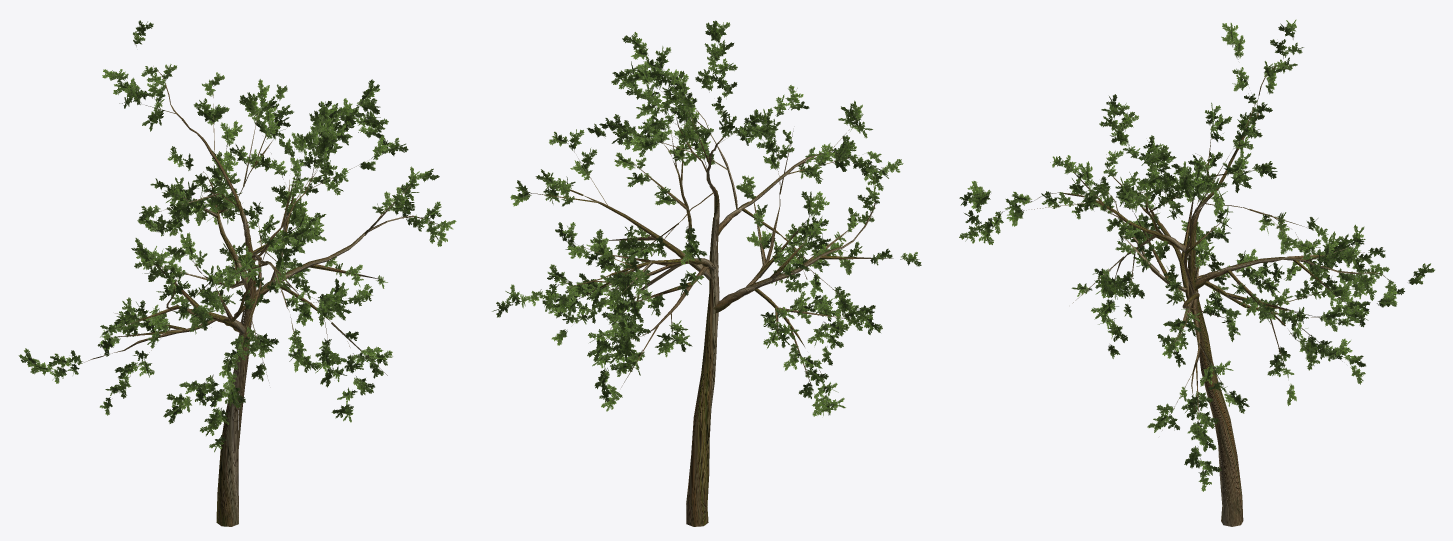
File: tree__v04.glb
3 renders of one model, left to right at view 1: azimuth 30°, elevation 25°; view 2: azimuth 150°, elevation 25°; view 3: azimuth 270°, elevation 25°, orthographic. The views are drawn at different scales.
Parts seen in each view (by area): view 1: Tree; view 2: Tree; view 3: Tree.
Part boxes in pixels (bbox=[...]): Tree: bbox=[18, 20, 456, 526]; Tree: bbox=[492, 20, 921, 526]; Tree: bbox=[959, 19, 1434, 526].
Bounding box in the file's own units: 36.93 × 46.64 × 42.46.
Materials: 2 (2 with a texture image).
